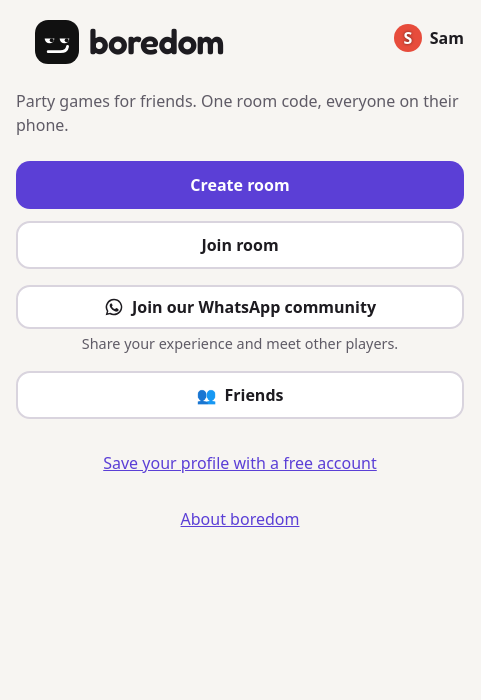
Scenario: home › creates a room and enters it
Click the button "Create room". click: {"x": 240, "y": 185}
box: [16,161,464,209]
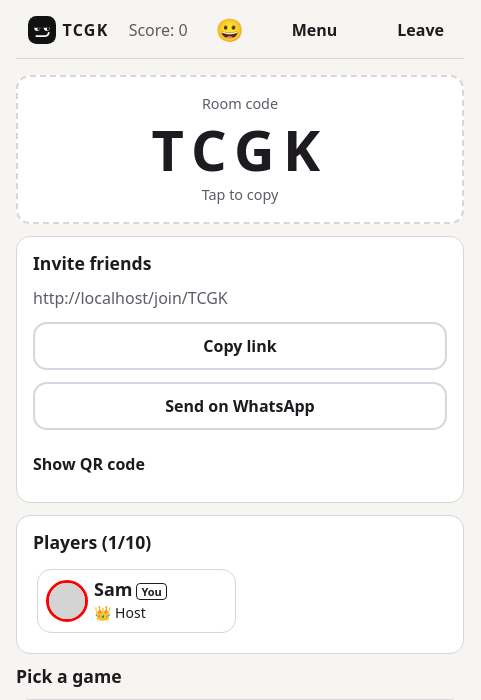
Expected: the text "Tap to copy" is shown, [202,184,278,206]
